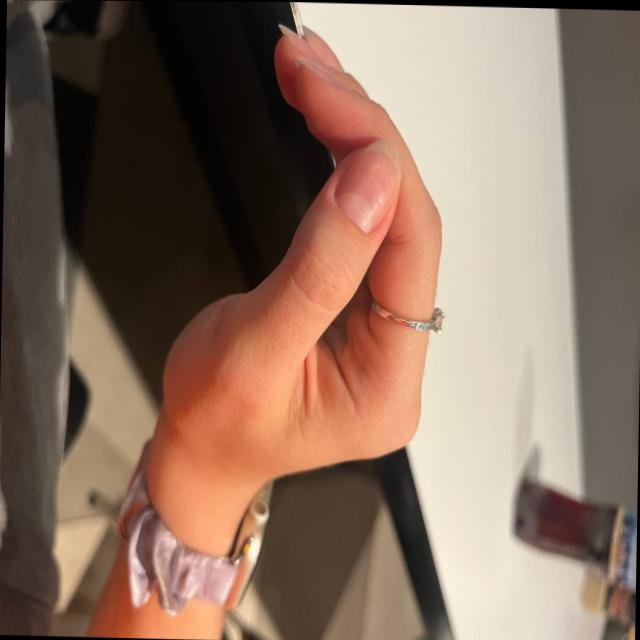f: (158, 31, 448, 496)
